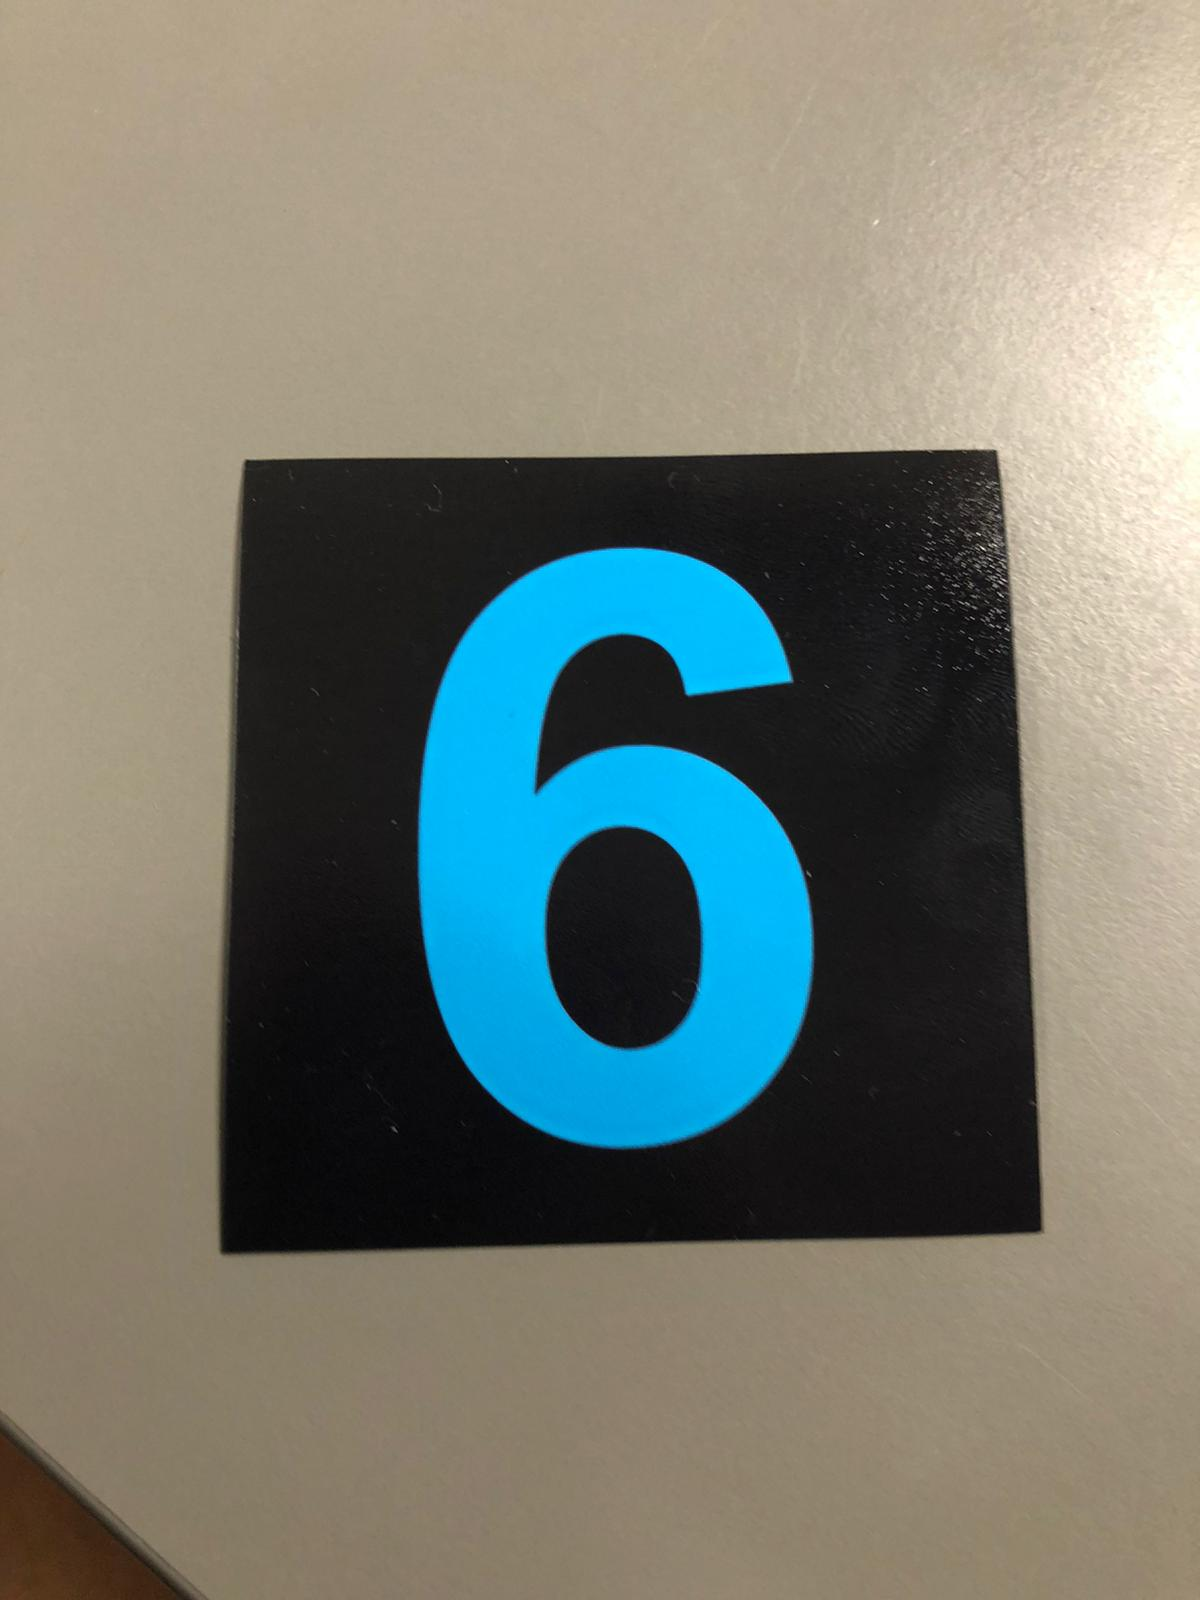Number 6: (258, 488, 966, 1198)
